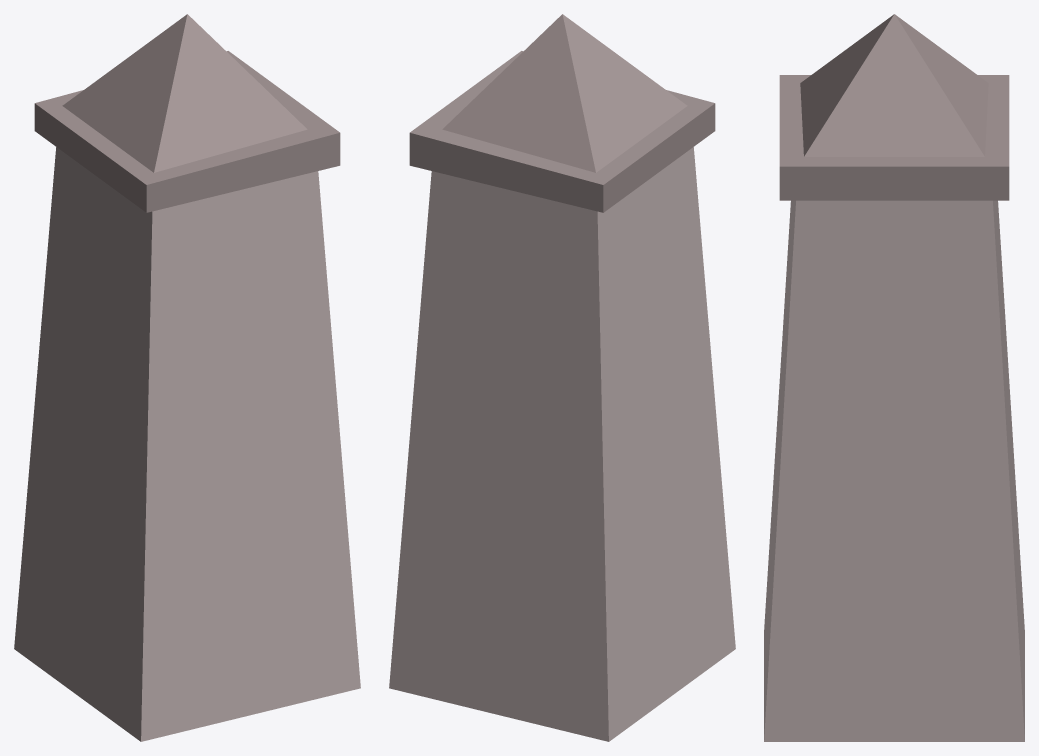
Rendered from HWN20_Column_04.glb.
The picture shows the model from 3 angles, left to right: view 1: azimuth 30°, elevation 25°; view 2: azimuth 150°, elevation 25°; view 3: azimuth 270°, elevation 25°; orthographic projection. The views are drawn at different scales.
Parts seen in each view (by area): view 1: HWN20_Column_04; view 2: HWN20_Column_04; view 3: HWN20_Column_04.
Part boxes in pixels (x1,y1,x2,y2): HWN20_Column_04: (14,14,360,741); HWN20_Column_04: (389,14,735,741); HWN20_Column_04: (764,14,1024,741).
Size of what is drawn, in the model's own units: 1.35 by 3.85 by 1.35.
Materials: 1 (1 with a texture image).
